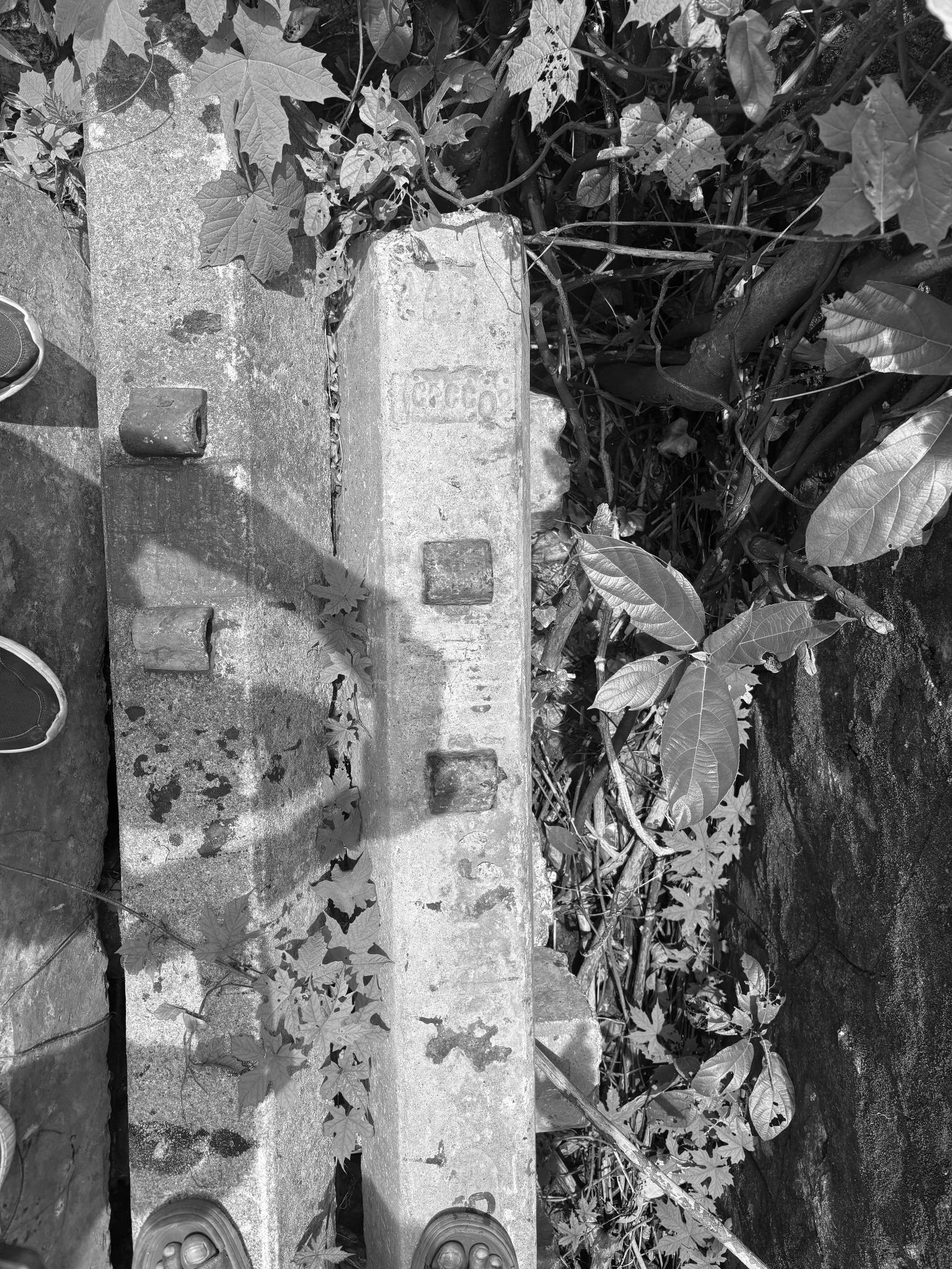cracks under rail seat: (425, 601, 488, 758)
